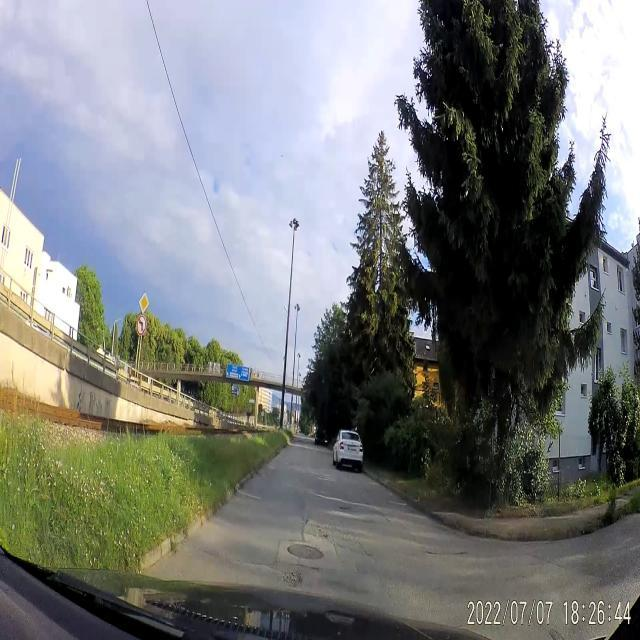Manhole: (284, 538, 326, 566)
